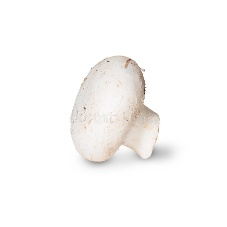mushroom: (69, 52, 164, 169)
